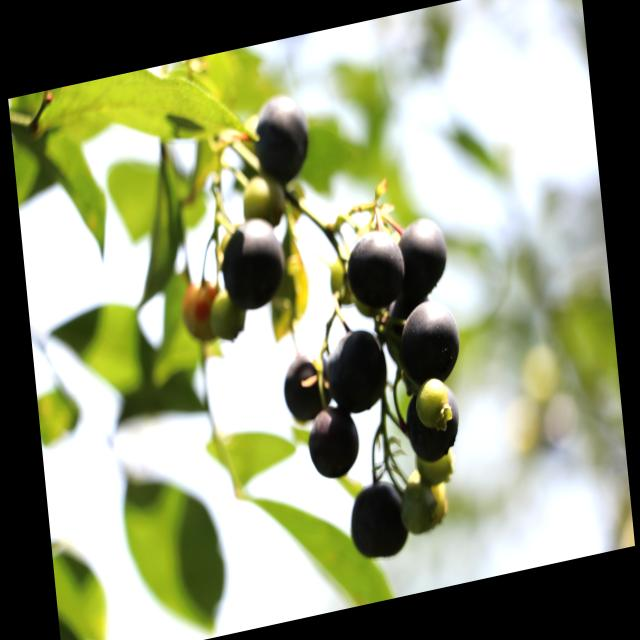blueberry: (215, 212, 288, 318), (400, 369, 467, 468), (248, 93, 315, 191), (396, 290, 464, 386), (343, 473, 412, 565), (326, 322, 389, 412), (344, 224, 406, 312), (396, 212, 452, 300), (278, 339, 335, 424), (306, 398, 362, 482)
blueberry-unripe: (399, 479, 442, 537), (413, 373, 454, 432)
